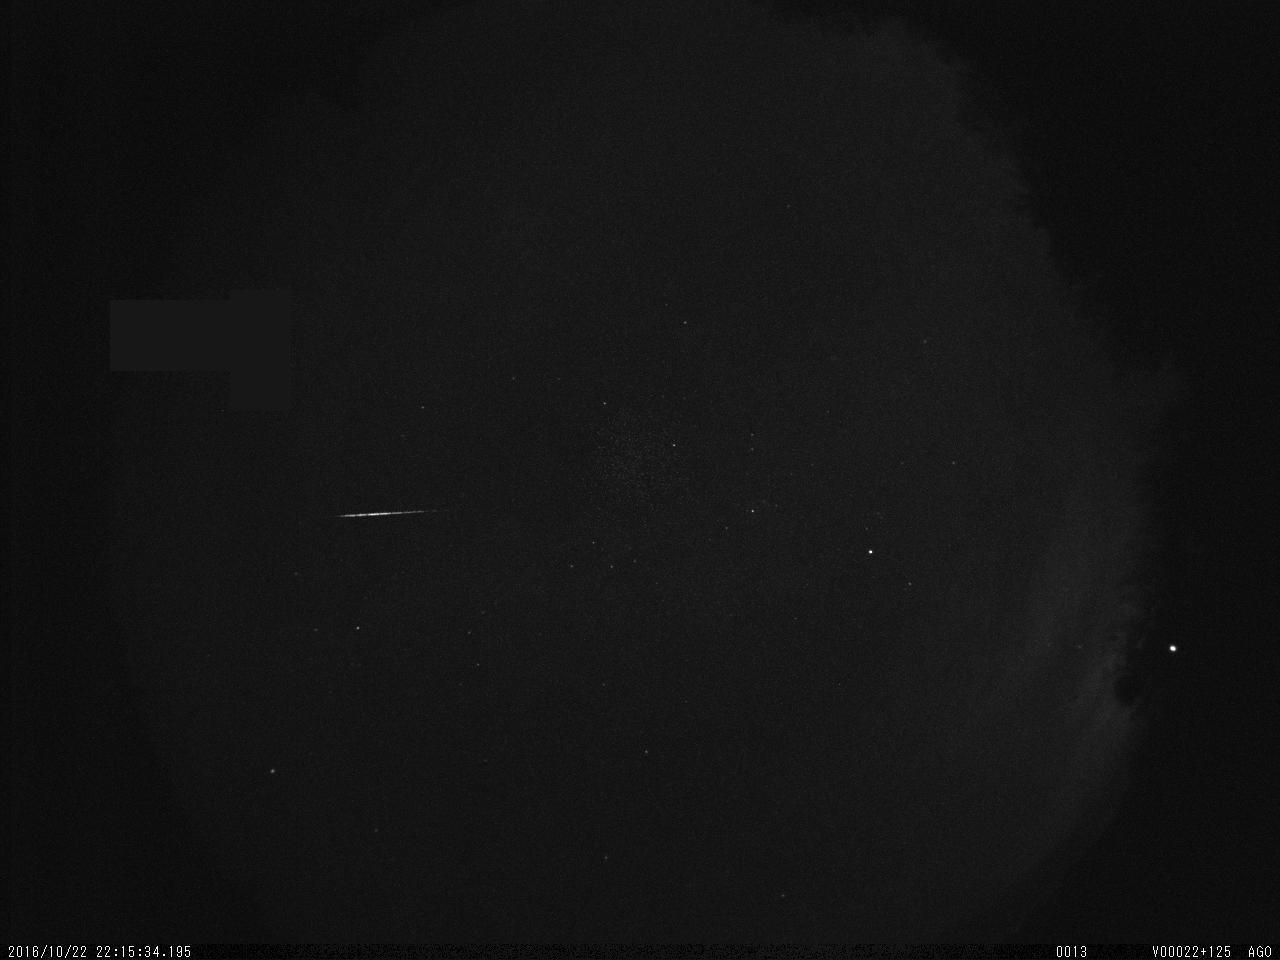meteor: (326, 500, 476, 527)
